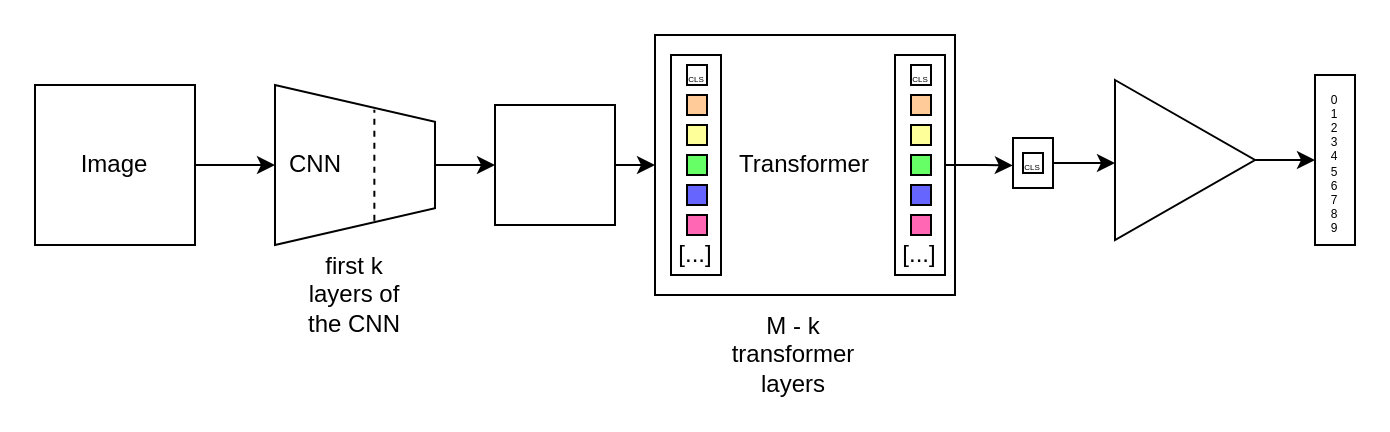
The diagram is 1390 pixels wide and 432 high, and some of its shapes have lost their labels. The shapes that lost their labels are listed below. From the top down, each one's centre as x and y in pixels, then its label:
At point (554, 164): "Flatten".
At point (1184, 159): "Decision Head".
